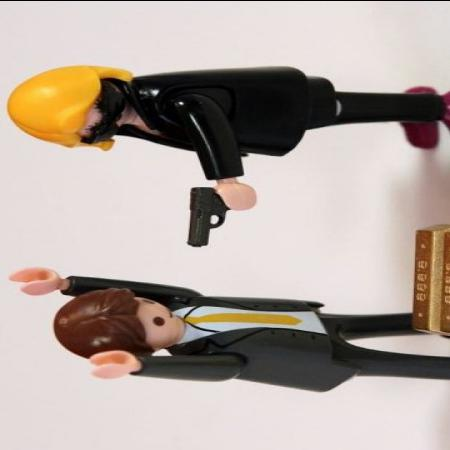Pistol: (181, 184, 259, 246)
